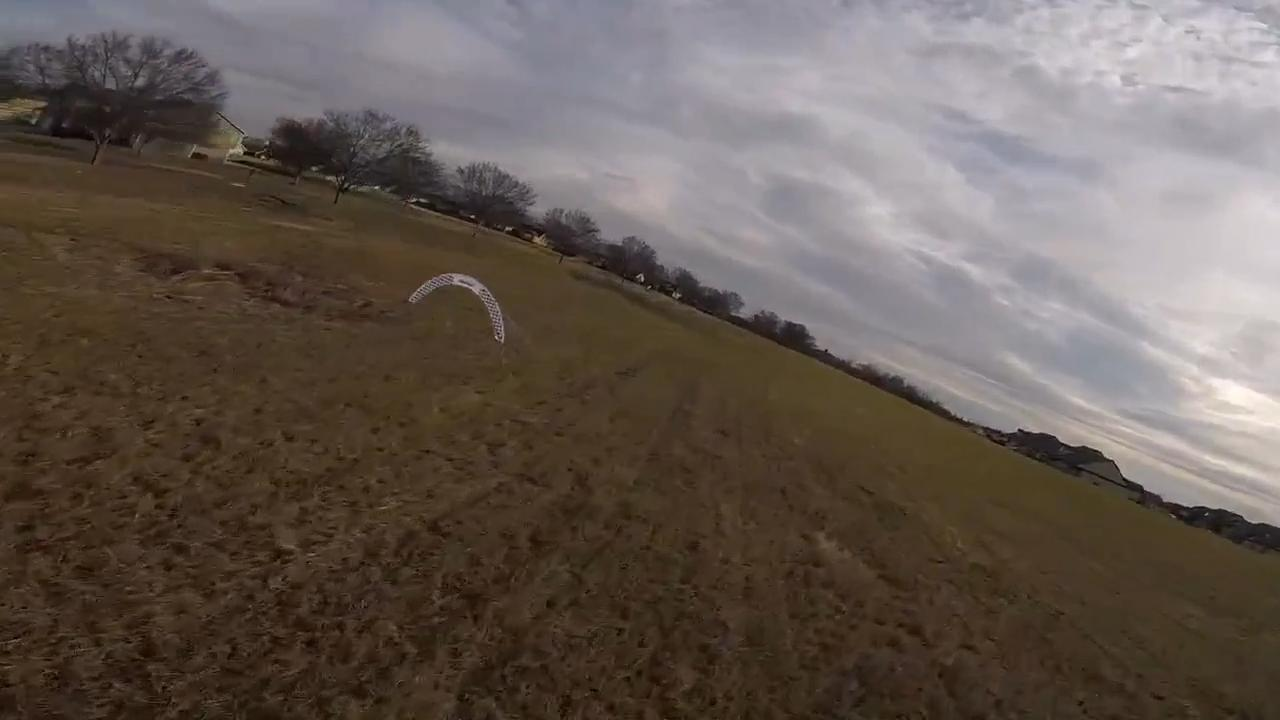gate: (405, 270, 508, 349)
